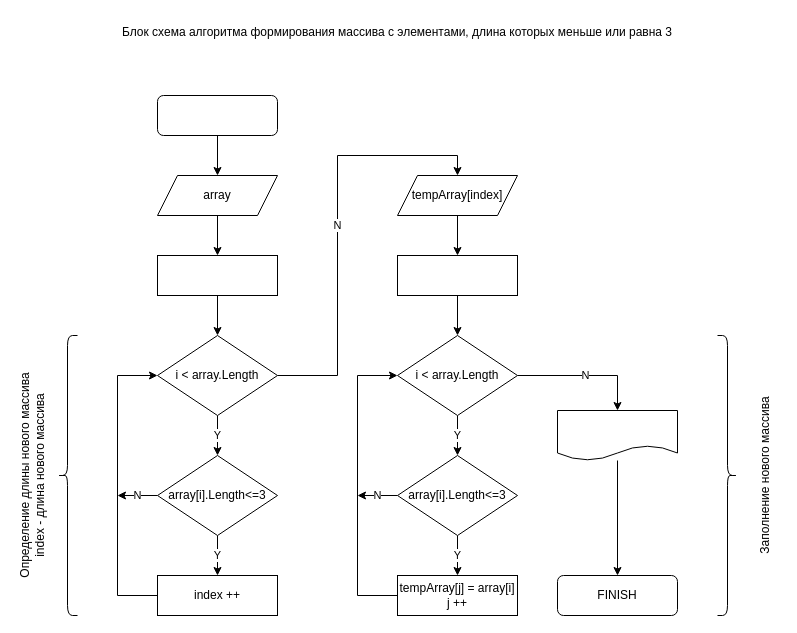
The diagram is 797 pixels wide and 633 high, and some of its shapes have lost their labels. The centre of each missing label's shape, as x and y in pixels:
"index = 0" belongs at [217,275].
"j = 0" belongs at [457,275].
"START" belongs at [217,115].
"tempArray[]" belongs at [617,435].
